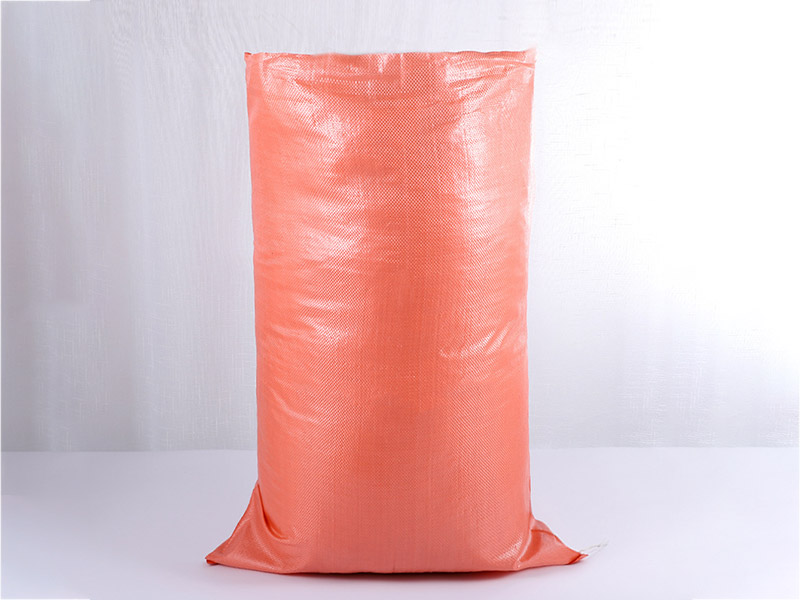Parcel: (207, 51, 581, 574)
